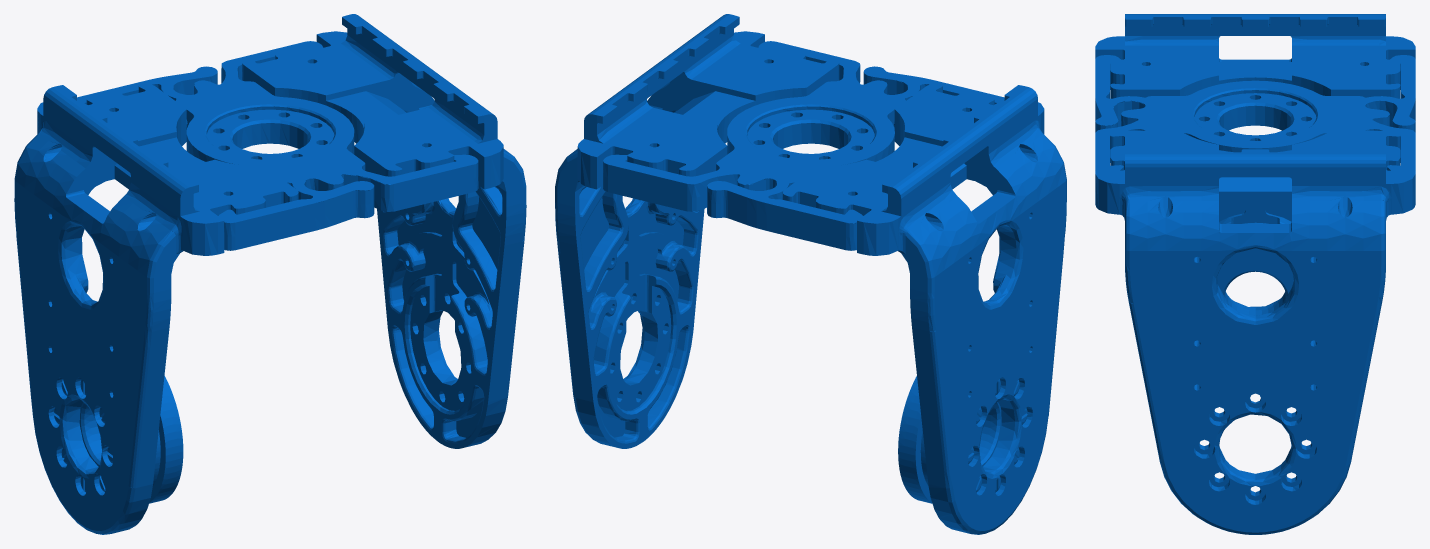
The model's file is qb_c_flange_m.dae.
3 views of the same model, side by side, from view 1: azimuth 30°, elevation 25°; view 2: azimuth 150°, elevation 25°; view 3: azimuth 270°, elevation 25° (orthographic). The views are drawn at different scales.
Parts seen in each view (by area): view 1: Body_3, Body_2, Body_1, Body_5, Body_4; view 2: Body_3, Body_2, Body_1, Body_5, Body_4; view 3: Body_2, Body_3, Body_1, Body_4.
Part boxes in pixels (bbox=[...]): Body_3: bbox=[14, 84, 298, 534]; Body_2: bbox=[242, 14, 526, 448]; Body_1: bbox=[77, 41, 478, 250]; Body_5: bbox=[149, 376, 183, 503]; Body_4: bbox=[79, 402, 160, 486]; Body_3: bbox=[782, 84, 1066, 534]; Body_2: bbox=[555, 14, 839, 448]; Body_1: bbox=[603, 41, 1004, 250]; Body_5: bbox=[898, 376, 932, 503]; Body_4: bbox=[920, 402, 1001, 485]; Body_2: bbox=[1095, 130, 1415, 534]; Body_3: bbox=[1095, 14, 1415, 310]; Body_1: bbox=[1095, 55, 1415, 170]; Body_4: bbox=[1217, 248, 1293, 315].
Bounding box in the file's own units: 0.086 × 0.066 × 0.0828.
